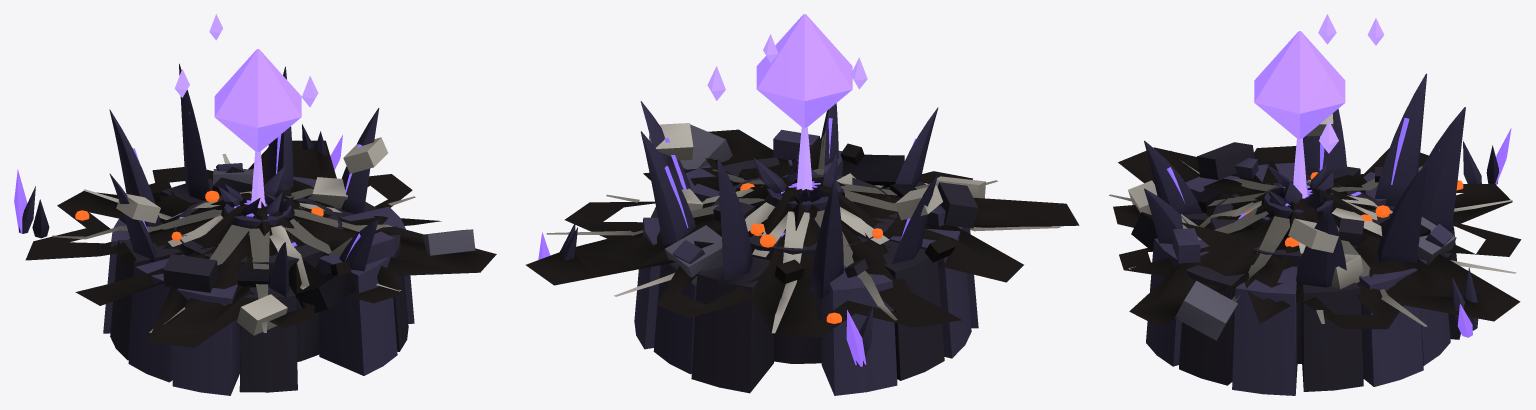
File: prism-reactor-umbra.glb
3 renders of one model, left to right at view 1: azimuth 30°, elevation 25°; view 2: azimuth 150°, elevation 25°; view 3: azimuth 270°, elevation 25°, orthographic. The views are drawn at different scales.
Parts seen in each view (by area): view 1: site_prism_reactor_umbra_ruin, site_prism_reactor_umbra_body, site_prism_reactor_umbra_core; view 2: site_prism_reactor_umbra_ruin, site_prism_reactor_umbra_body, site_prism_reactor_umbra_core; view 3: site_prism_reactor_umbra_body, site_prism_reactor_umbra_ruin, site_prism_reactor_umbra_core.
Boxes of the visible parts, <box> form: site_prism_reactor_umbra_ruin: <box>25,137,496,347</box>; site_prism_reactor_umbra_body: <box>14,63,414,395</box>; site_prism_reactor_umbra_core: <box>174,14,318,151</box>; site_prism_reactor_umbra_ruin: <box>526,123,1079,337</box>; site_prism_reactor_umbra_body: <box>538,101,978,395</box>; site_prism_reactor_umbra_core: <box>707,14,867,127</box>; site_prism_reactor_umbra_body: <box>1144,73,1511,395</box>; site_prism_reactor_umbra_ruin: <box>1109,114,1521,340</box>; site_prism_reactor_umbra_core: <box>1254,14,1384,153</box>.
Size of the model in its own units: 5.19 by 3.97 by 4.86.
